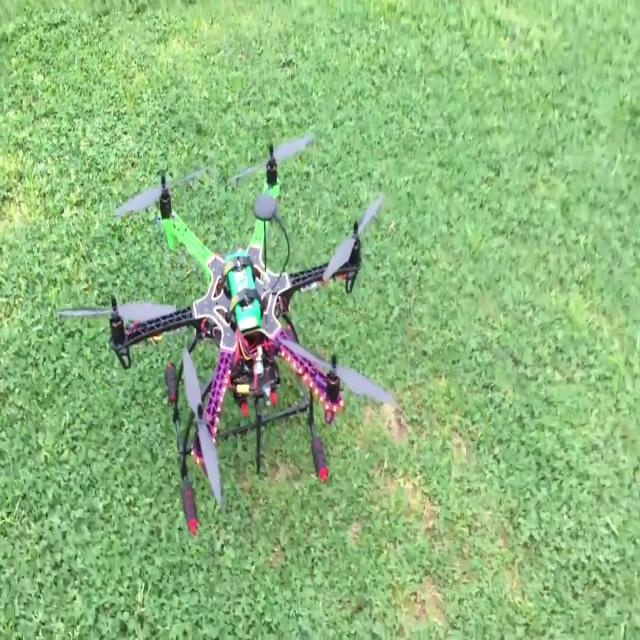drone: (79, 131, 409, 512)
